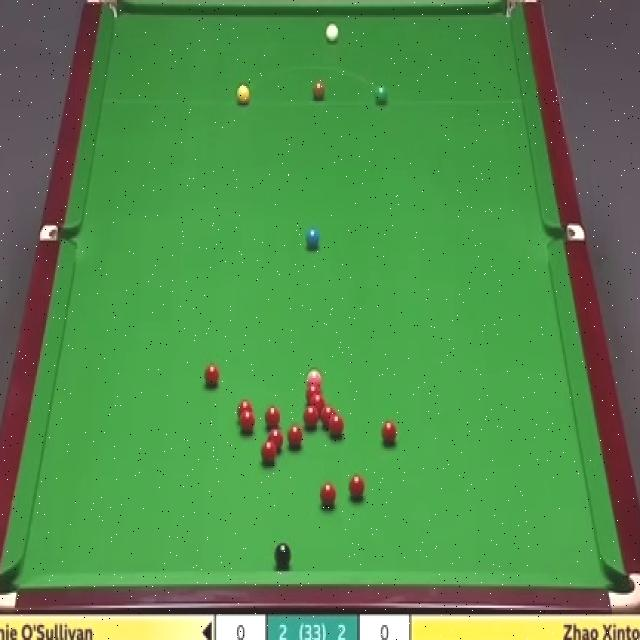black-ball: (272, 540, 292, 566)
blue-ball: (305, 228, 320, 246)
brown-ball: (313, 81, 325, 100)
green-ball: (374, 82, 389, 106)
pink-ball: (306, 369, 324, 385)
red-ball: (380, 416, 397, 445), (203, 362, 219, 388), (262, 437, 279, 461), (303, 405, 319, 430), (288, 422, 304, 447), (319, 478, 334, 503), (327, 413, 344, 435), (264, 405, 281, 426), (242, 409, 256, 434), (348, 473, 363, 496), (268, 431, 284, 451), (320, 402, 335, 422), (309, 393, 324, 413), (237, 398, 250, 420), (303, 384, 321, 399)
white-ball: (324, 22, 338, 42)
yellow-ball: (237, 84, 250, 105)
